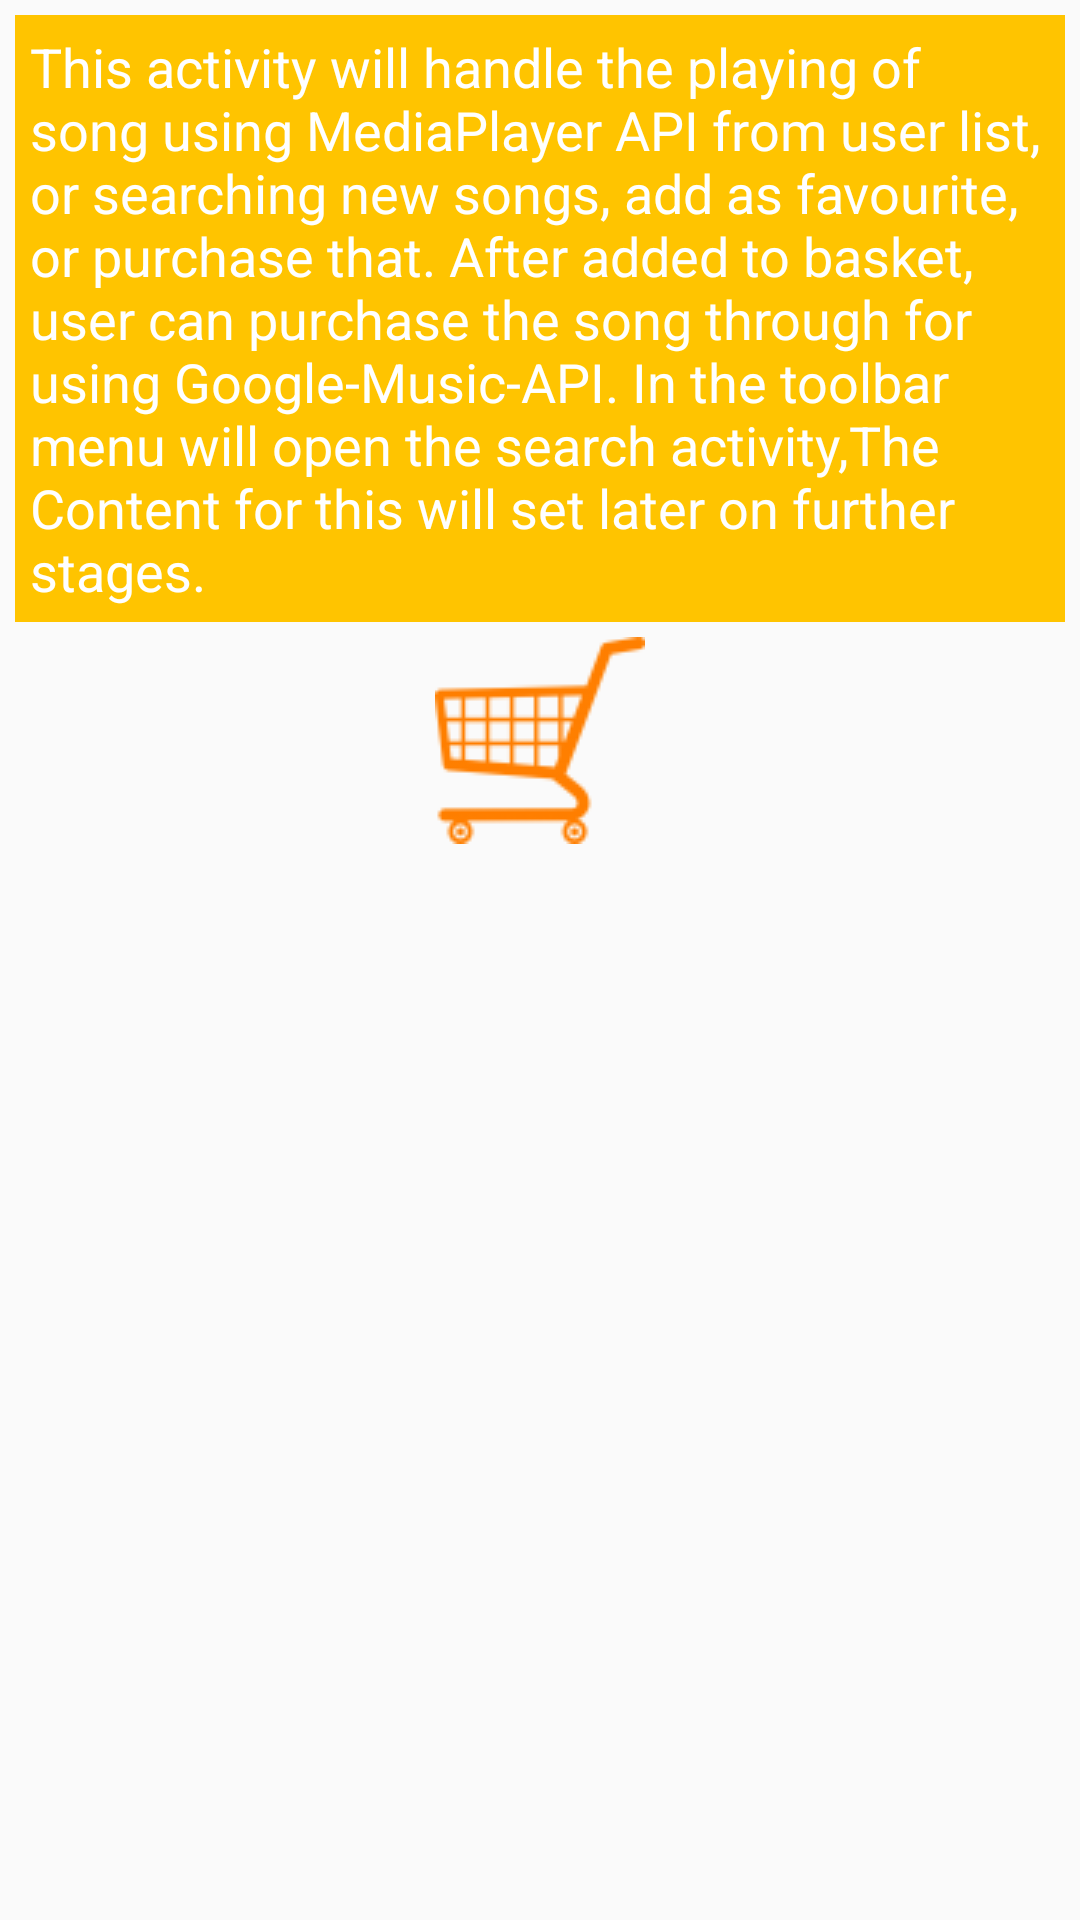

Point at icon controls on the screen. Image size 1080px×1920px, points as [x,y].
cart: [540,740]
